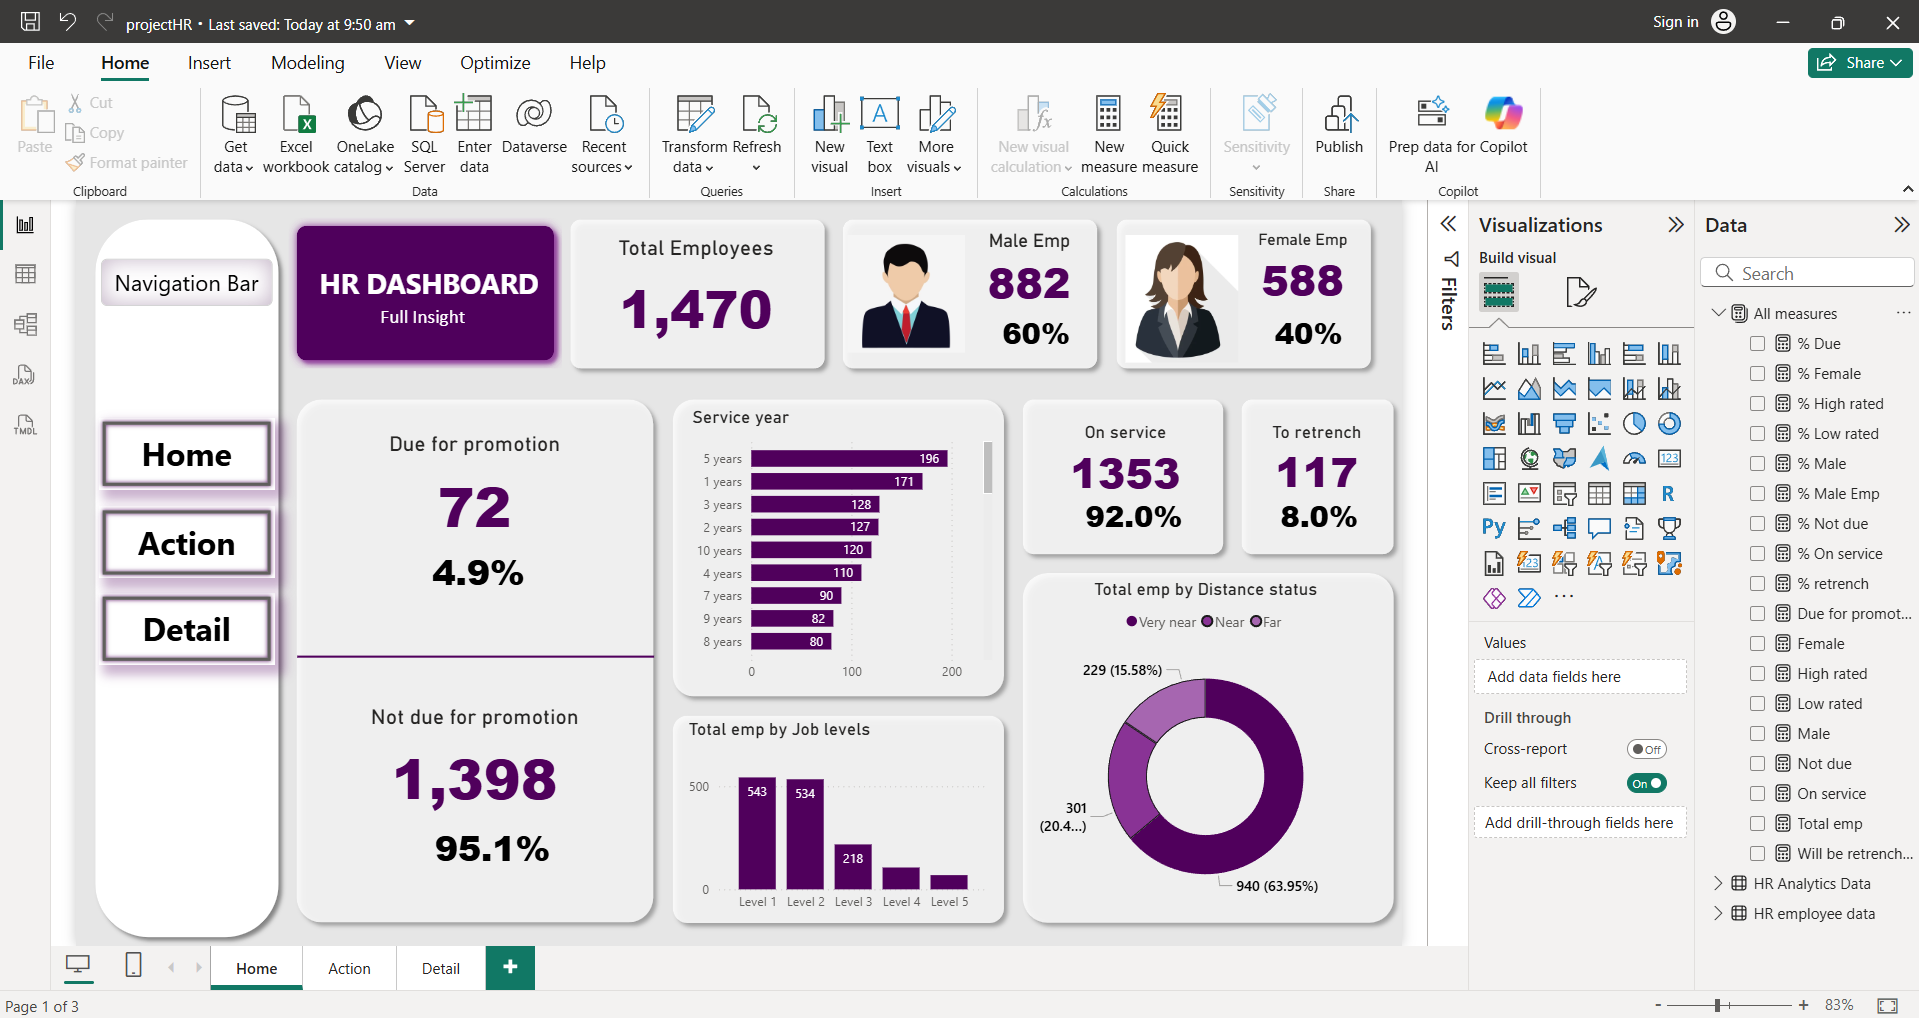

The page's visual inventory and layout, read from the dashboard file:
{"tool":"powerbi","page":{"name":"Home","canvas":[1280,720],"ordinal":0},"visuals":[{"type":"shape","box":[9.6,9.6,194.9,710.8],"z":0},{"type":"shape","box":[205.1,16.9,264.2,146],"z":1000},{"type":"shape","box":[467.9,9.6,263.5,161.9],"z":2000},{"type":"shape","box":[731.4,9.6,263.5,161.9],"z":3000},{"type":"shape","box":[994.9,9.6,263.5,161.9],"z":4000},{"type":"shape","box":[204.5,183.9,362.3,522.8],"z":5000},{"type":"shape","box":[566.7,183.9,337.6,304.6],"z":6000},{"type":"shape","box":[566.7,488.5,337.6,218.2],"z":7000},{"type":"shape","box":[904.3,183.9,211.3,167.4],"z":8000},{"type":"shape","box":[1115.6,183.9,164.7,167.4],"z":9000},{"type":"textbox","box":[222.3,56.3,237.4,46.7],"z":10000},{"type":"textbox","box":[211.3,96.1,247,50.8],"z":11000},{"type":"card","title":"Total Employees","fields":{"Values":["All measures.Total emp"]},"box":[483,34.3,231.9,112.5],"z":12000},{"type":"card","title":"Male Emp","fields":{"Values":["All measures.Male"]},"box":[863.1,28.8,115.3,76.8],"z":13000},{"type":"card","title":"Male Emp","fields":{"Values":["All measures.% Male"]},"box":[874.1,90.6,104.3,76.8],"z":14000},{"type":"card","title":"Female Emp","fields":{"Values":["All measures.Female"]},"box":[1126.8,29,114.6,77.2],"z":15000},{"type":"card","title":"Male Emp","fields":{"Values":["All measures.% Female"]},"box":[1137.6,90.6,104.3,76.8],"z":16000},{"type":"shape","box":[904.3,351.3,376,355.4],"z":17000},{"type":"image","box":[739.6,28.8,123.5,123.5],"z":18000},{"type":"image","box":[997.6,28.8,140,133.1],"z":19000},{"type":"card","title":"Due for promotion","fields":{"Values":["All measures.Due for promotion"]},"box":[269,223.2,231.6,113.4],"z":20000},{"type":"card","title":"Male Emp","fields":{"Values":["All measures.% Due"]},"box":[336.6,320.9,103.8,77.2],"z":21000},{"type":"card","title":"Not due for promotion","fields":{"Values":["All measures.Not due"]},"box":[269,485.8,231.9,112.5],"z":22000},{"type":"shape","box":[214.1,413,344.4,56.3],"z":23000},{"type":"barChart","title":"Service year","fields":{"Category":["HR Analytics Data.Service year"],"Y":["All measures.Total emp"]},"box":[590.1,199,299.1,274.4],"z":24000},{"type":"columnChart","fields":{"Category":["HR Analytics Data.Job levels"],"Y":["All measures.Total emp"]},"box":[585.9,500.9,299.1,194.9],"z":25000},{"type":"card","title":"Male Emp","fields":{"Values":["All measures.% Not due"]},"box":[334.8,587.3,133.1,76.8],"z":26000},{"type":"card","title":"On service","fields":{"Values":["All measures.On service"]},"box":[911.2,214.1,204.5,76.8],"z":27000},{"type":"card","title":"Male Emp","fields":{"Values":["All measures.% On service"]},"box":[926.2,267.6,189.4,76.8],"z":28000},{"type":"card","title":"To retrench","fields":{"Values":["All measures.Will be retrenched"]},"box":[1121.1,214.1,153.7,74.1],"z":29000},{"type":"card","title":"Male Emp","fields":{"Values":["All measures.% retrench"]},"box":[1143.1,267.6,115.3,76.8],"z":30000},{"type":"donutChart","title":"Total emp by Distance status","fields":{"Category":["HR Analytics Data.Distance startus"],"Y":["All measures.Total emp"]},"box":[921.2,365,337.5,331.2],"z":31000},{"type":"actionButton","title":"Home","box":[22,209.9,170.2,70],"z":32000},{"type":"actionButton","title":"Home","box":[22,295,170.2,70],"z":33000},{"type":"actionButton","title":"Home","box":[22,378.7,170.2,70],"z":34000},{"type":"textbox","box":[24.1,56.7,165.3,45.8],"z":35000}]}

Visuals, with their boxes on the page's 1280x720 design canvas (x1, y1, x2, y2). These are canvas units, not pixel positions in the 1919x1018 screenshot, which may show the page scaled, cropped or inside an application window:
shape: 10,10,204,720
shape: 205,17,469,163
shape: 468,10,731,172
shape: 731,10,995,172
shape: 995,10,1258,172
shape: 204,184,567,707
shape: 567,184,904,488
shape: 567,488,904,707
shape: 904,184,1116,351
shape: 1116,184,1280,351
textbox: 222,56,460,103
textbox: 211,96,458,147
"Total Employees" card: 483,34,715,147
"Male Emp" card: 863,29,978,106
"Male Emp" card: 874,91,978,167
"Female Emp" card: 1127,29,1241,106
"Male Emp" card: 1138,91,1242,167
shape: 904,351,1280,707
image: 740,29,863,152
image: 998,29,1138,162
"Due for promotion" card: 269,223,501,337
"Male Emp" card: 337,321,440,398
"Not due for promotion" card: 269,486,501,598
shape: 214,413,558,469
"Service year" barChart: 590,199,889,473
columnChart - HR Analytics Data.Job levels x All measures.Total emp: 586,501,885,696
"Male Emp" card: 335,587,468,664
"On service" card: 911,214,1116,291
"Male Emp" card: 926,268,1116,344
"To retrench" card: 1121,214,1275,288
"Male Emp" card: 1143,268,1258,344
"Total emp by Distance status" donutChart: 921,365,1259,696
"Home" actionButton: 22,210,192,280
"Home" actionButton: 22,295,192,365
"Home" actionButton: 22,379,192,449
textbox: 24,57,189,102
